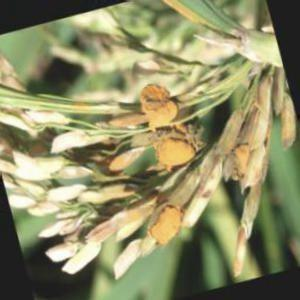Leaf_Scald: (142, 85, 194, 163), (227, 136, 255, 180), (153, 203, 180, 247)
